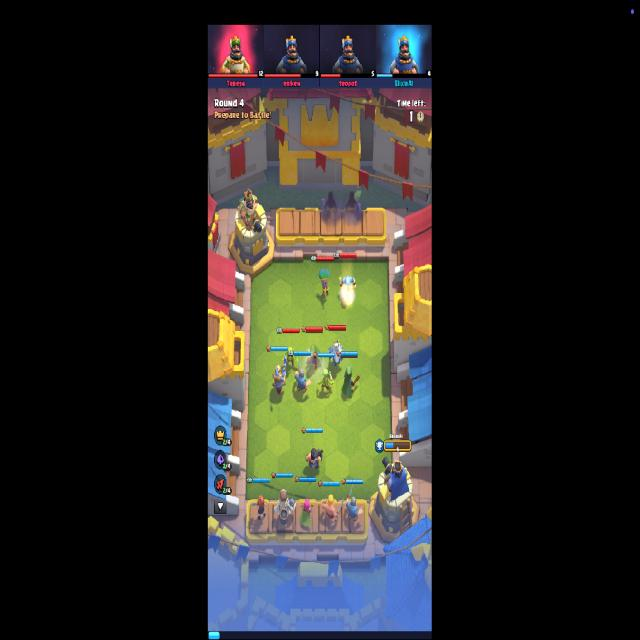archer: (300, 498, 313, 526)
bandit: (341, 364, 361, 398), (305, 342, 323, 370)
barbarian: (322, 494, 344, 526)
dart_goblin: (318, 267, 331, 300)
executioner: (304, 446, 324, 472)
giant_skeleton: (274, 489, 296, 525)
goblin: (317, 368, 334, 394), (284, 347, 298, 373)
knight: (346, 484, 364, 528), (294, 355, 312, 394)
prince: (271, 358, 287, 395)
royal_ghost: (328, 340, 344, 367)
valkyrie: (250, 496, 267, 520)
wizard: (340, 275, 358, 297)
